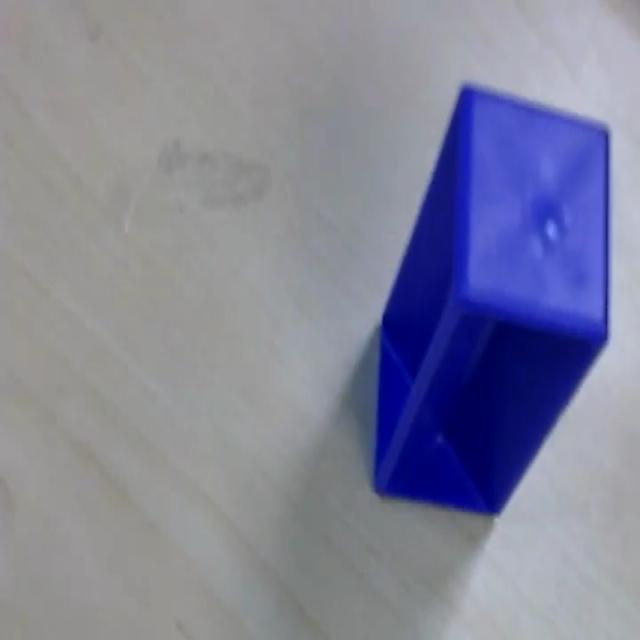blue_block: (371, 79, 612, 517)
